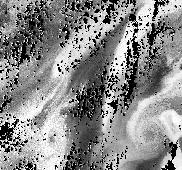CE: (126, 113, 169, 156)
